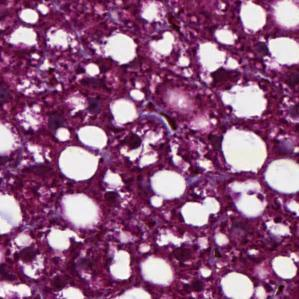steatosis: (218, 128, 265, 172), (97, 28, 144, 70), (57, 143, 102, 182), (146, 168, 189, 199)
